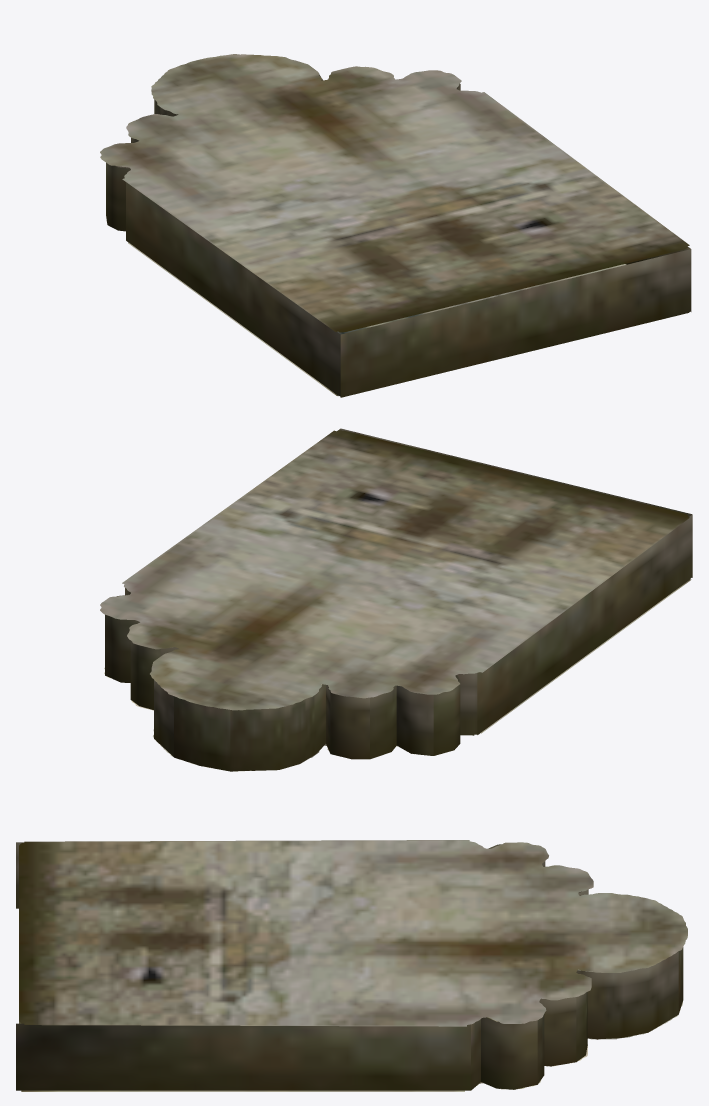
The model's file is INST_MIRK_GRAVESTONE_A.fbx.
The picture shows the model from 3 angles, top to bottom: view 1: azimuth 30°, elevation 25°; view 2: azimuth 150°, elevation 25°; view 3: azimuth 270°, elevation 25°; orthographic projection. The views are drawn at different scales.
Parts seen in each view (by area): view 1: INST_MIRK_GRAVESTONE_A; view 2: INST_MIRK_GRAVESTONE_A; view 3: INST_MIRK_GRAVESTONE_A.
Part boxes in pixels (bbox=[...]): INST_MIRK_GRAVESTONE_A: bbox=[100, 54, 691, 397]; INST_MIRK_GRAVESTONE_A: bbox=[100, 428, 692, 771]; INST_MIRK_GRAVESTONE_A: bbox=[16, 840, 687, 1091].
Bounding box in the file's own units: 6312 × 1048 × 9647.
Materials: 2 (2 with a texture image).
